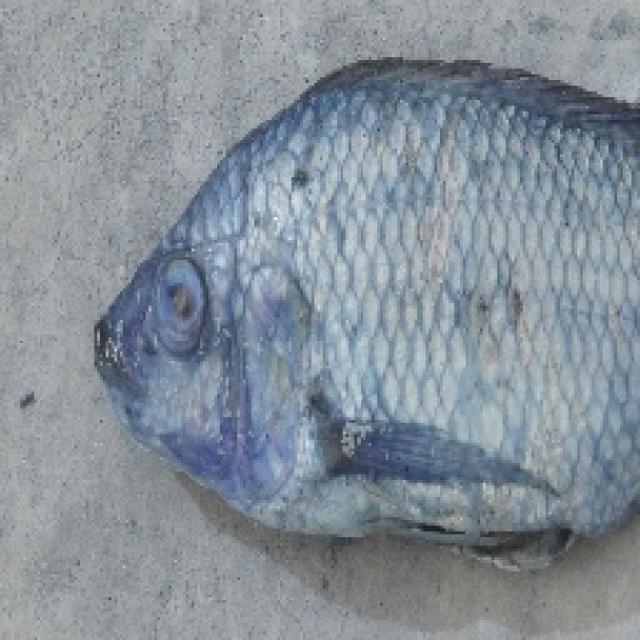Non-Fresh: (86, 65, 640, 554), (142, 245, 246, 362)
